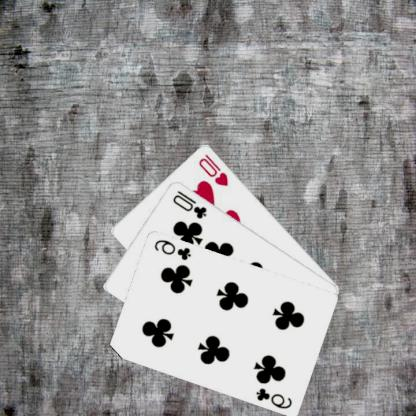10C: (172, 187, 209, 220)
10H: (198, 152, 231, 188)
6C: (153, 236, 194, 262), (254, 385, 295, 410)
